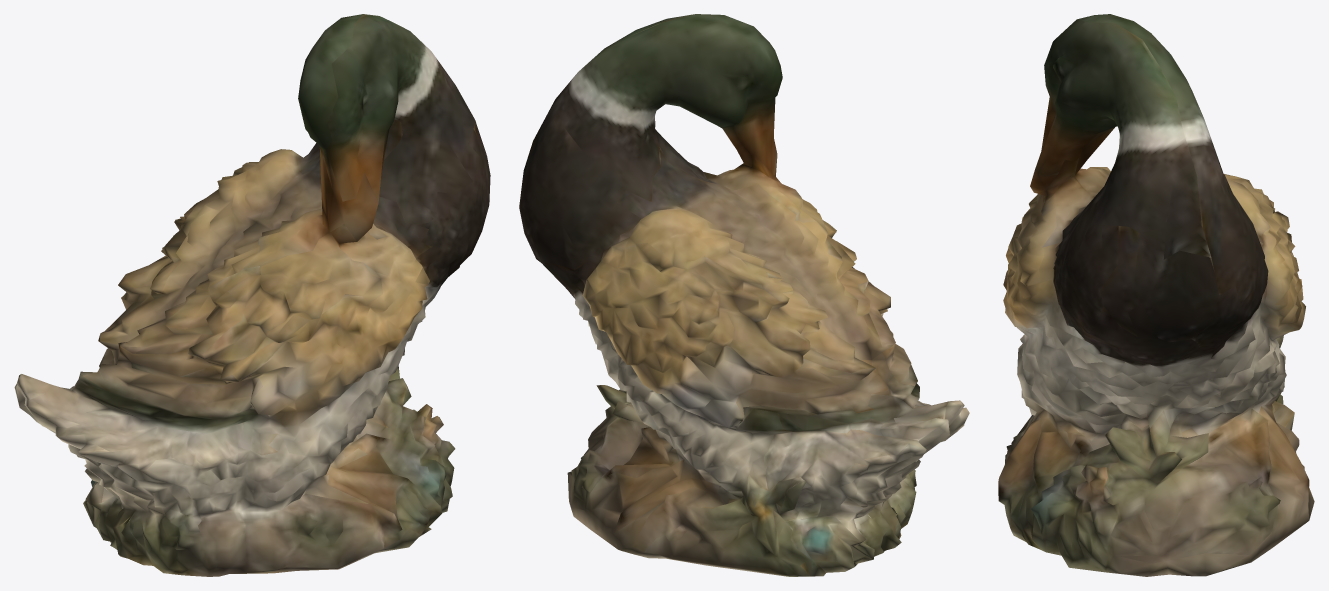
File: st_duck_decoy.gltf
3 views of the same model, side by side, from view 1: azimuth 30°, elevation 25°; view 2: azimuth 150°, elevation 25°; view 3: azimuth 270°, elevation 25° (orthographic). The views are drawn at different scales.
Parts seen in each view (by area): view 1: Model; view 2: Model; view 3: Model.
Boxes of the visible parts, x1,y1,x2,y2 form: Model: [14, 14, 490, 576]; Model: [519, 14, 969, 576]; Model: [998, 14, 1314, 576].
Bounding box in the file's own units: 0.1157 × 0.1205 × 0.0678.
1 material, 1 textured.
